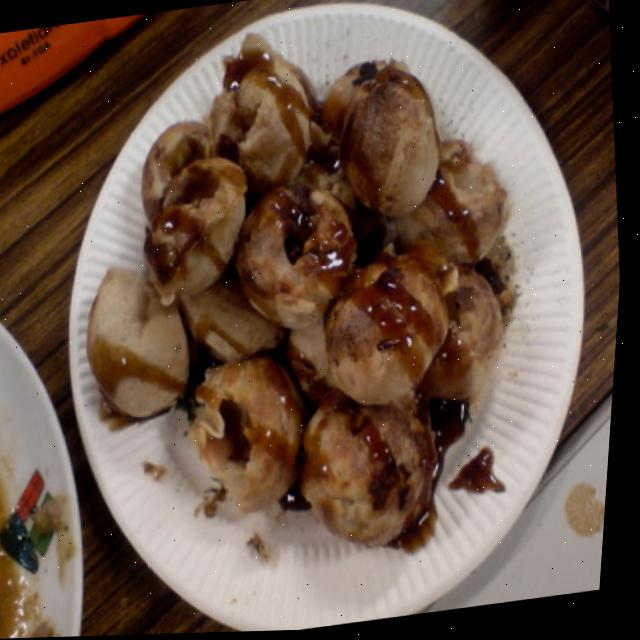炸货点心: (54, 27, 573, 607)
